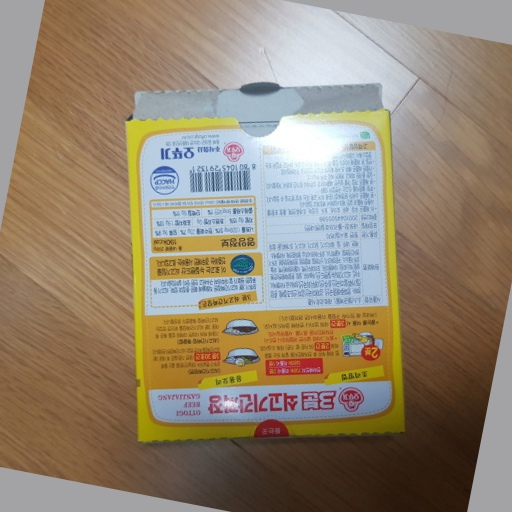Paper_0: (118, 80, 411, 443)
